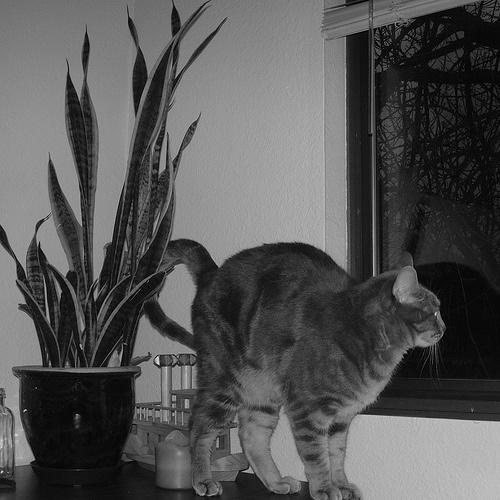cat: (150, 236, 443, 500)
pottedplant: (5, 1, 196, 470)
